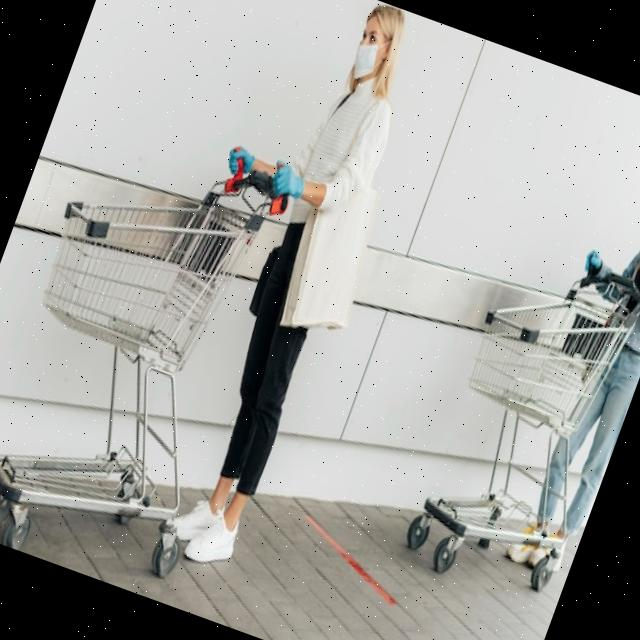Person: (95, 0, 454, 581), (480, 150, 640, 583)
